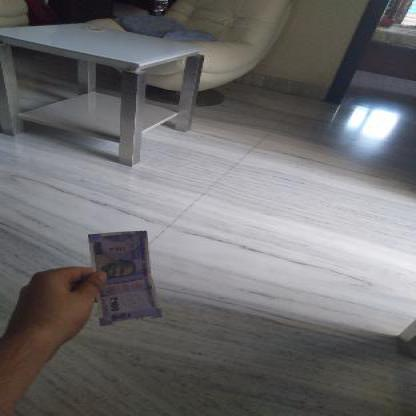New100Front: (88, 230, 157, 323)
